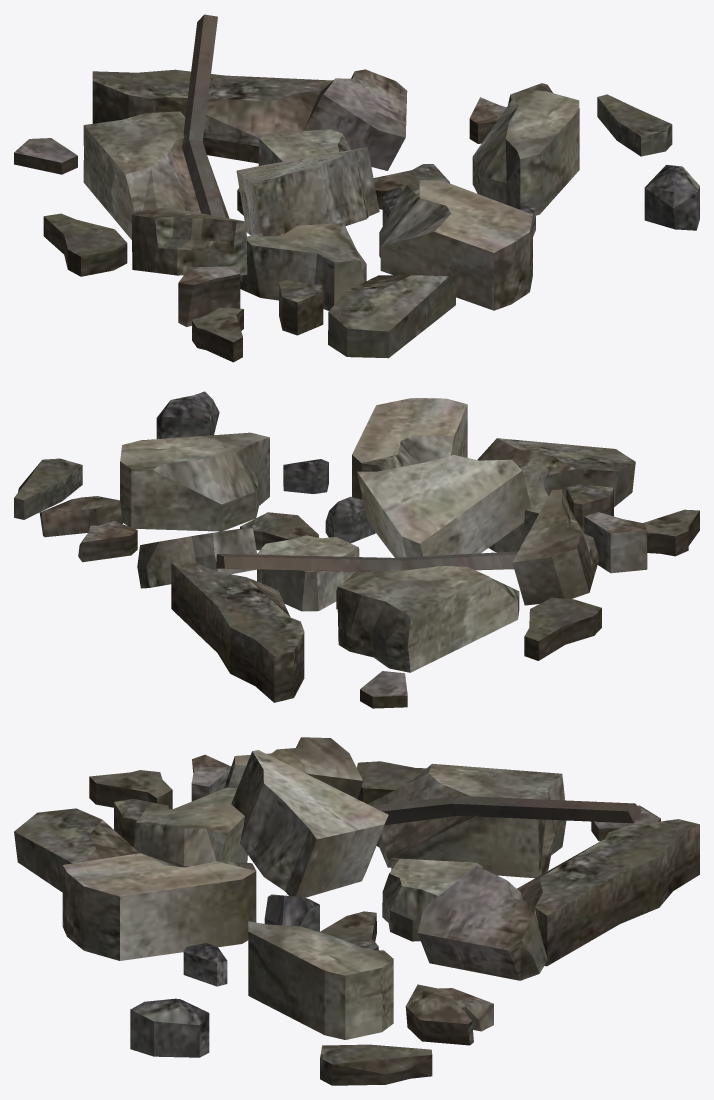
The model's file is concrete_debris128pile001b.glb.
The picture shows the model from 3 angles, top to bottom: view 1: azimuth 30°, elevation 25°; view 2: azimuth 150°, elevation 25°; view 3: azimuth 270°, elevation 25°; orthographic projection. The views are drawn at different scales.
Visible parts, largest first — view 1: 0_composite_debris; view 2: 0_composite_debris; view 3: 0_composite_debris.
Boxes of the visible parts, left/top/right/bottom form: 0_composite_debris: left=14, top=14, right=699, bottom=362; 0_composite_debris: left=14, top=391, right=699, bottom=708; 0_composite_debris: left=14, top=737, right=699, bottom=1085.
Size of the model in its own units: 3.07 by 0.5423 by 2.94.
1 material, 1 textured.
